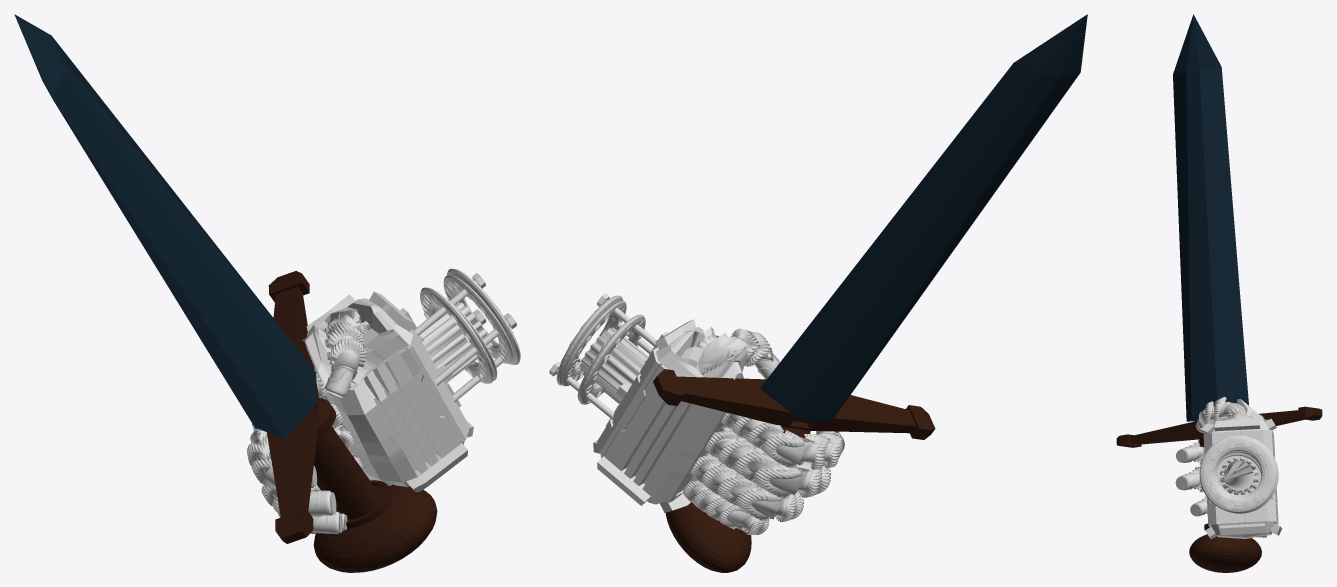
Rendered from Sword_RightHand.fbx.
3 views of the same model, side by side, from view 1: azimuth 30°, elevation 25°; view 2: azimuth 150°, elevation 25°; view 3: azimuth 270°, elevation 25° (orthographic). The views are drawn at different scales.
Parts seen in each view (by area): view 1: Cylinder.005; view 2: Cylinder.005; view 3: Cylinder.005.
Part boxes in pixels (x1,y1,x2,y2): Cylinder.005: (14,14,520,572); Cylinder.005: (549,14,1087,572); Cylinder.005: (1116,14,1322,572).
Size of the model in its own units: 336 by 401 by 171.
